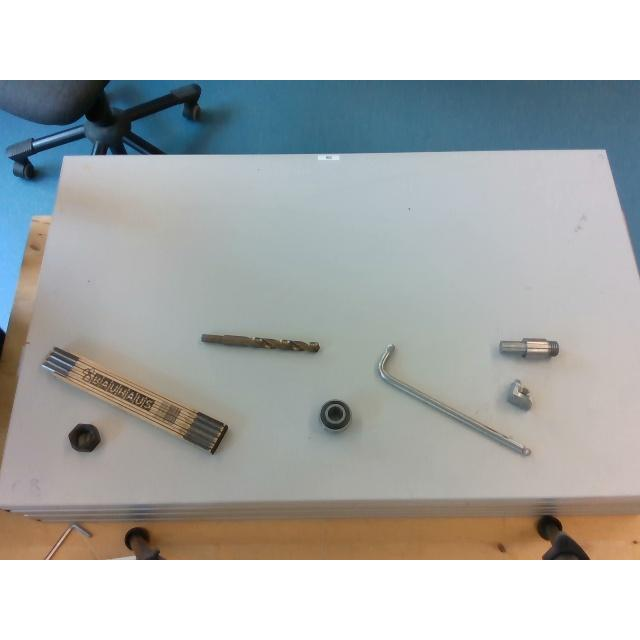AllenKey: (376, 344, 530, 456)
Axis2: (498, 338, 558, 356)
Bearing2: (320, 400, 350, 430)
Drill: (201, 332, 319, 352)
M20: (68, 423, 100, 452)
